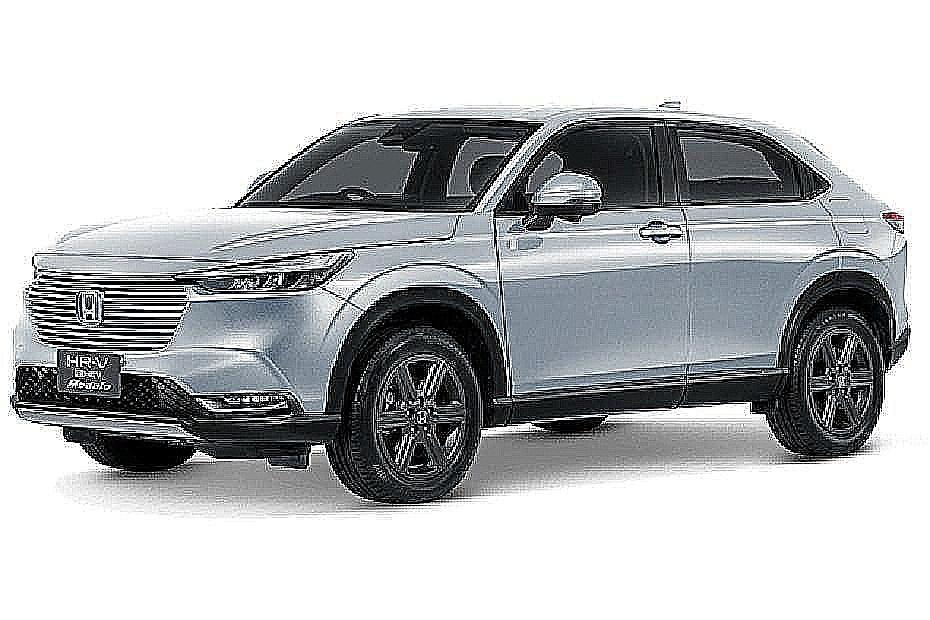Car hood: (24, 199, 465, 279)
Fender - -F-L-: (321, 205, 510, 423)
Fender - -R-L-: (825, 189, 897, 309)
Front bumper: (6, 300, 369, 469)
Headlight - -L-: (179, 244, 360, 308)
Passenger-s door - -F-L-: (504, 114, 690, 400)
Passenger-s door - -R-L-: (687, 117, 847, 386)
Rear bumper: (874, 269, 921, 373)
Rear light - -L-: (872, 202, 913, 247)
Side bumper - -L-: (479, 346, 800, 436)
Side mirror - -L-: (514, 167, 609, 241)
